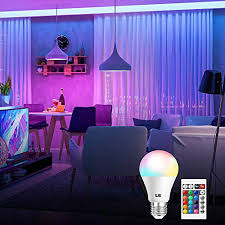bulb: (133, 147, 179, 216)
